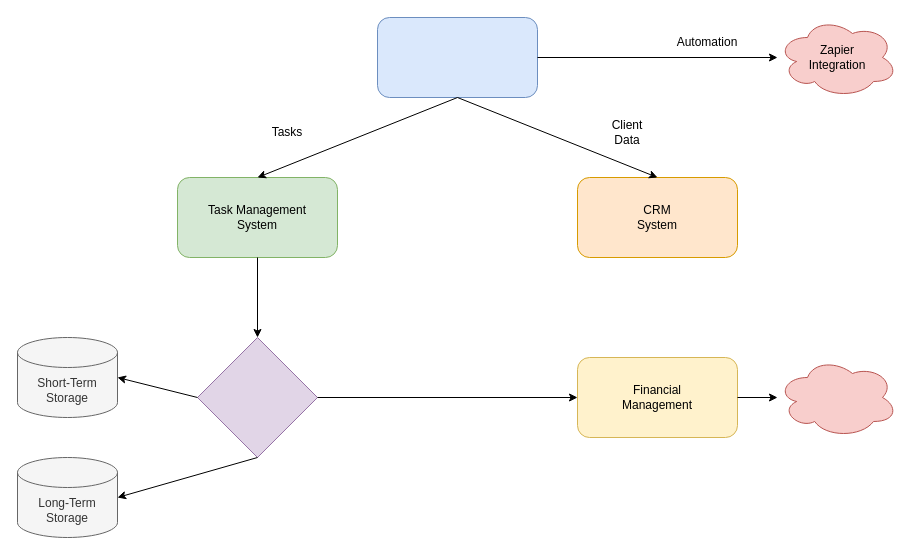
Some shapes in this 915 by 555 pixel diagram are drawn without their labels. Here are the shapes that lost their labels. From the top down, the box of each, then its label:
(376, 16, 538, 98): Dashboard (Central Hub)
(196, 336, 318, 458): AI Task Prioritization
(776, 356, 898, 438): QuickBooks API
